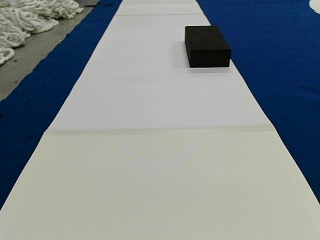block: (184, 25, 230, 67)
